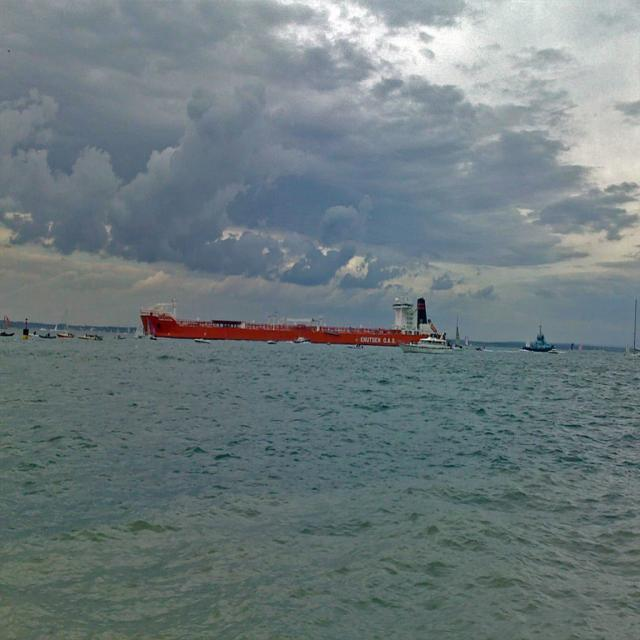Boat: (517, 319, 575, 376), (398, 332, 460, 358), (57, 313, 75, 338), (78, 334, 105, 343), (194, 336, 212, 348), (133, 323, 146, 339)
